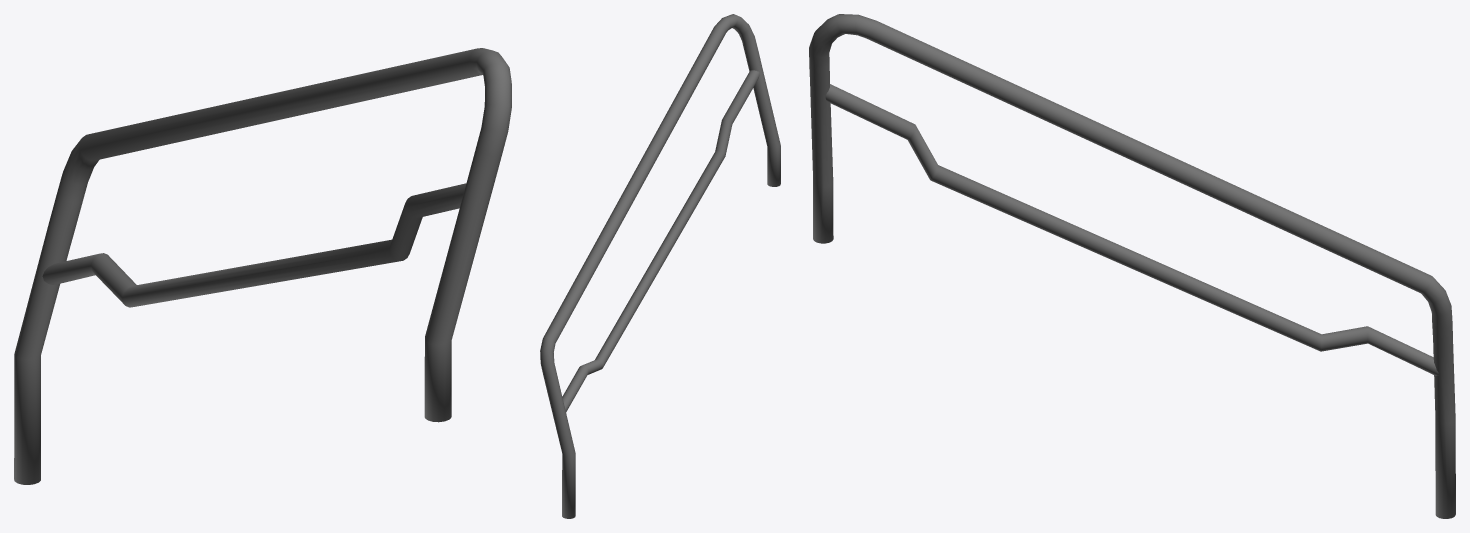
Rendered from sf_railing_incline_short_l.glb.
The picture shows the model from 3 angles, left to right: view 1: azimuth 30°, elevation 25°; view 2: azimuth 150°, elevation 25°; view 3: azimuth 270°, elevation 25°; orthographic projection. The views are drawn at different scales.
Visible parts, largest first — view 1: Prop_Rail_Incline_Short_L; view 2: Prop_Rail_Incline_Short_L; view 3: Prop_Rail_Incline_Short_L.
Part boxes in pixels (x1=…): Prop_Rail_Incline_Short_L: x1=14, y1=48, x2=511, y2=484; Prop_Rail_Incline_Short_L: x1=540, y1=14, x2=780, y2=518; Prop_Rail_Incline_Short_L: x1=809, y1=14, x2=1455, y2=518.
Bounding box in the file's own units: 0.2545 × 1.7 × 1.89.
Materials: 1 (1 with a texture image).
